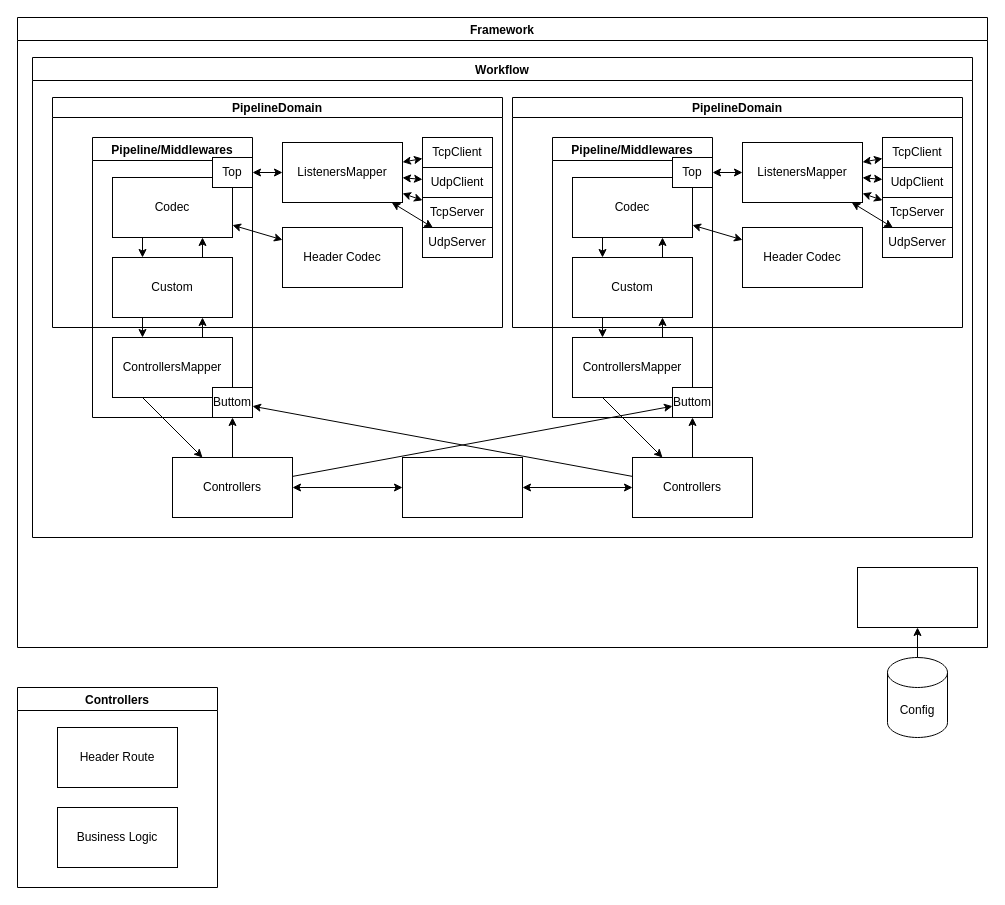
Image size: 1005x905. Some labels were removed from this diagram. The shapes that lost their labels are listed below. From the top down, each one's centre as x and y in pixels, then its label:
(462,487): Services
(917,597): Config Loader
